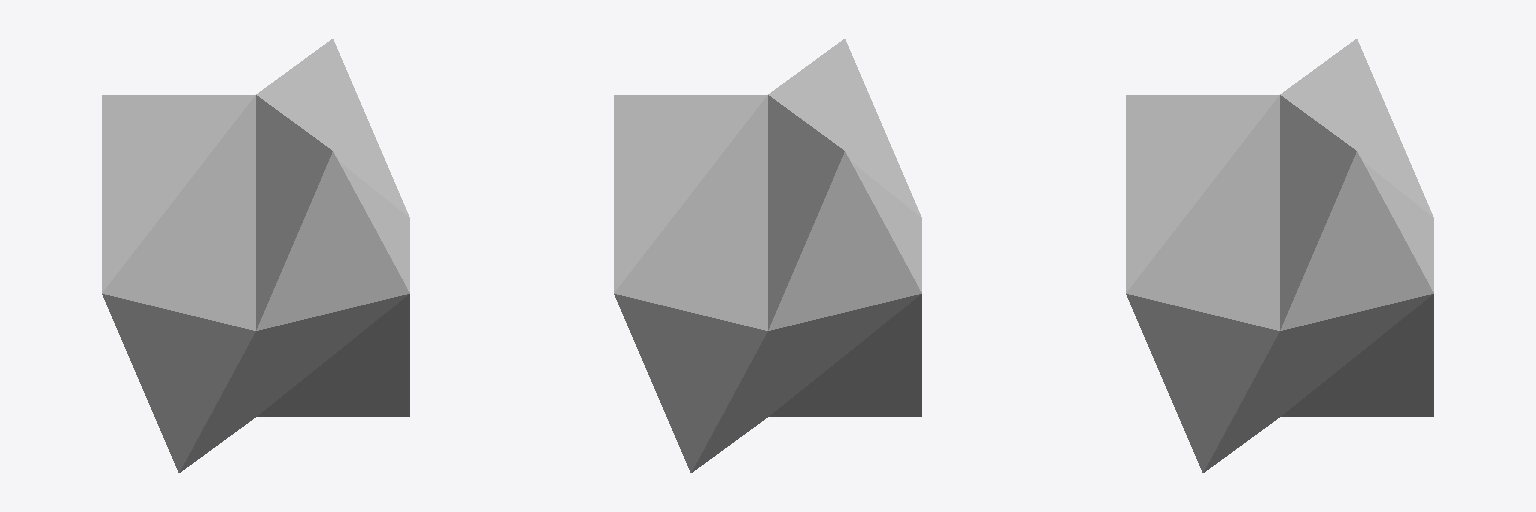
Rendered from nukahedron.obj.
The picture shows the model from 3 angles: view 1: azimuth 30°, elevation 25°; view 2: azimuth 150°, elevation 25°; view 3: azimuth 270°, elevation 25°; orthographic projection.
Bounding box in the file's own units: 2 × 2 × 1.73.